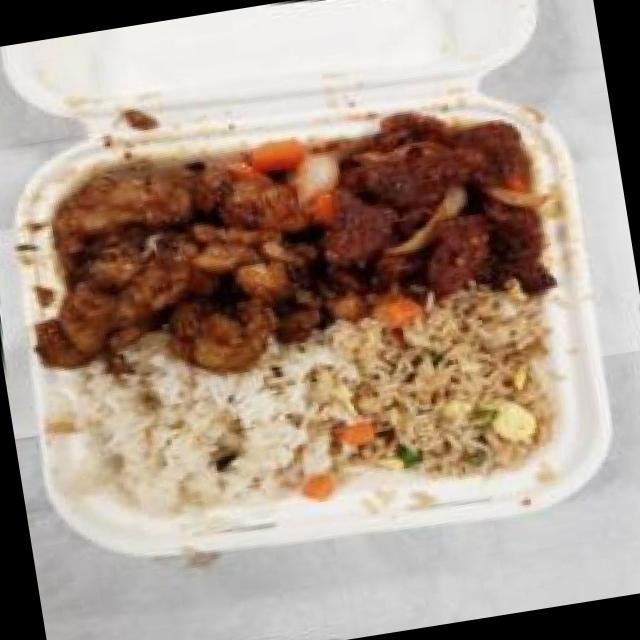Beijing Beef: (292, 82, 582, 334)
Fried Rice: (300, 288, 569, 507)
The Original Orange Chicken: (1, 106, 370, 420)
White Steamed Rice: (59, 330, 345, 534)
